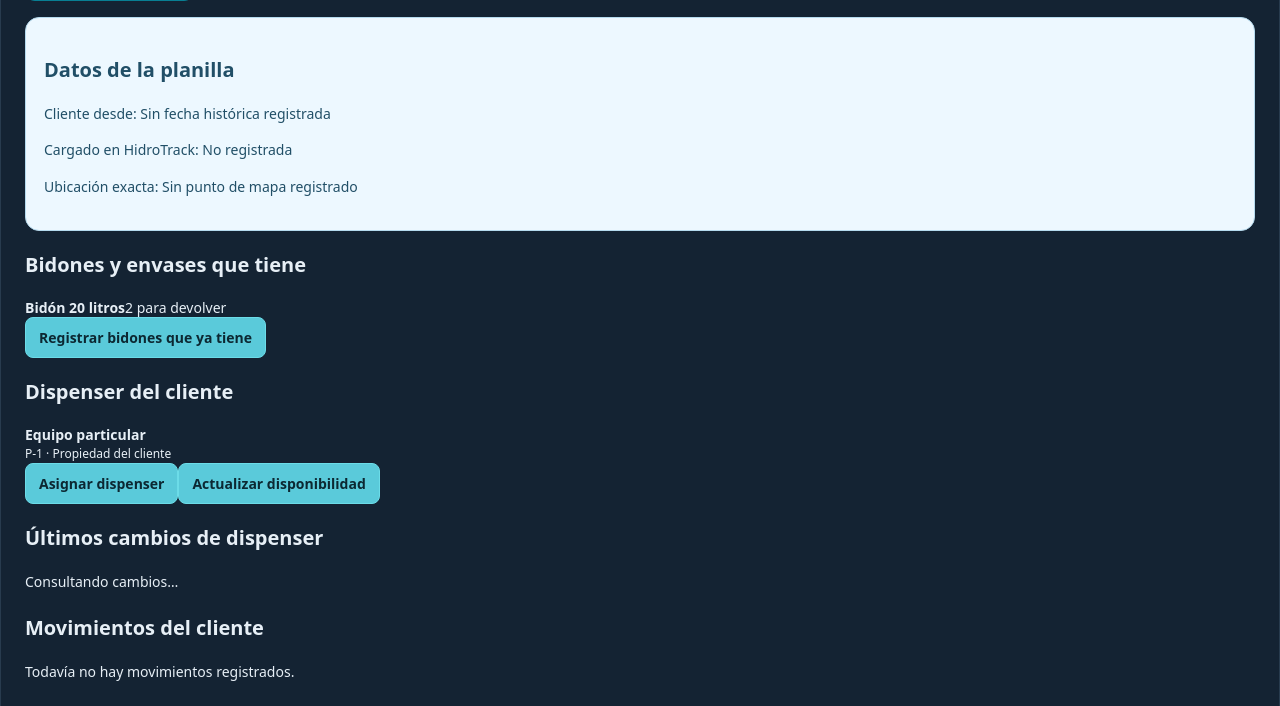
Test: registra envases anteriores del cliente en una sola apertura con varios artículos
(page scrolled)
Expected: the text "2 para devolver" is shown, [125,298,226,317]
Click the button "Registrar bidones que ya tiene": [146, 338] box [25,317,266,358]
(page scrolled)
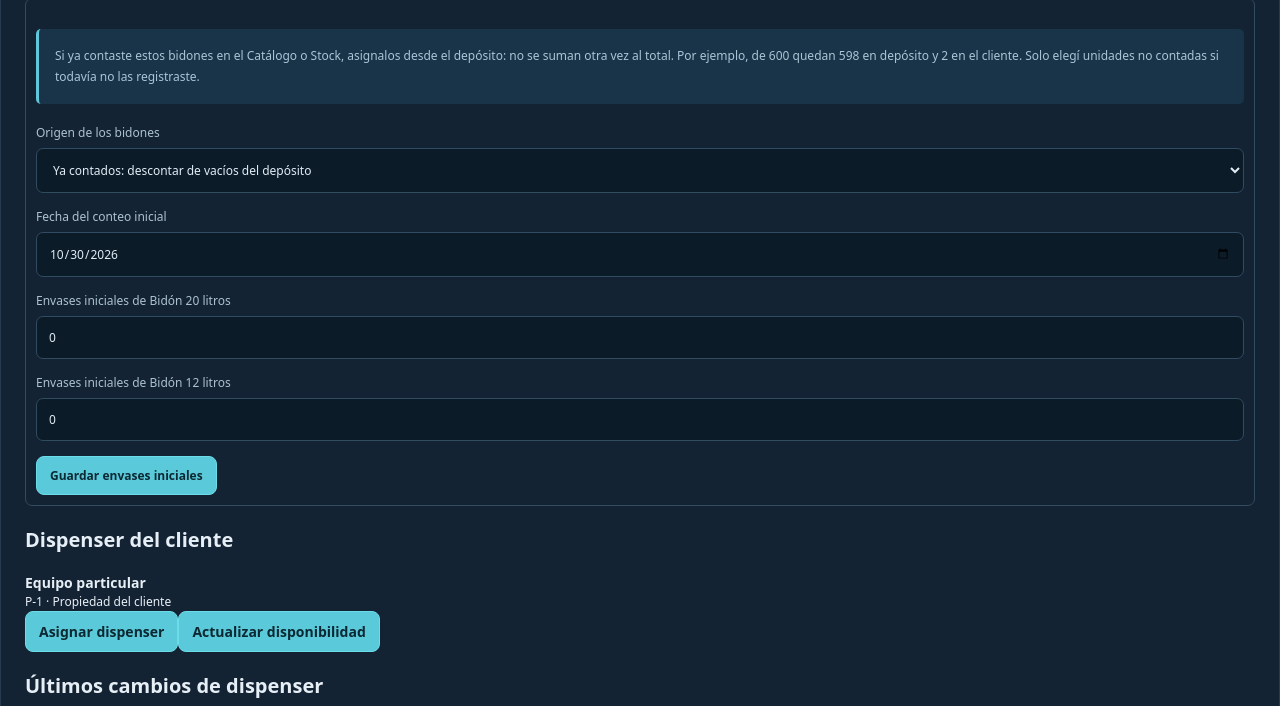
Replace the text in the number field labelled "Envases iniciales de Bidón 20 litros" with "4": [640, 337] box [36,316,1244,359]
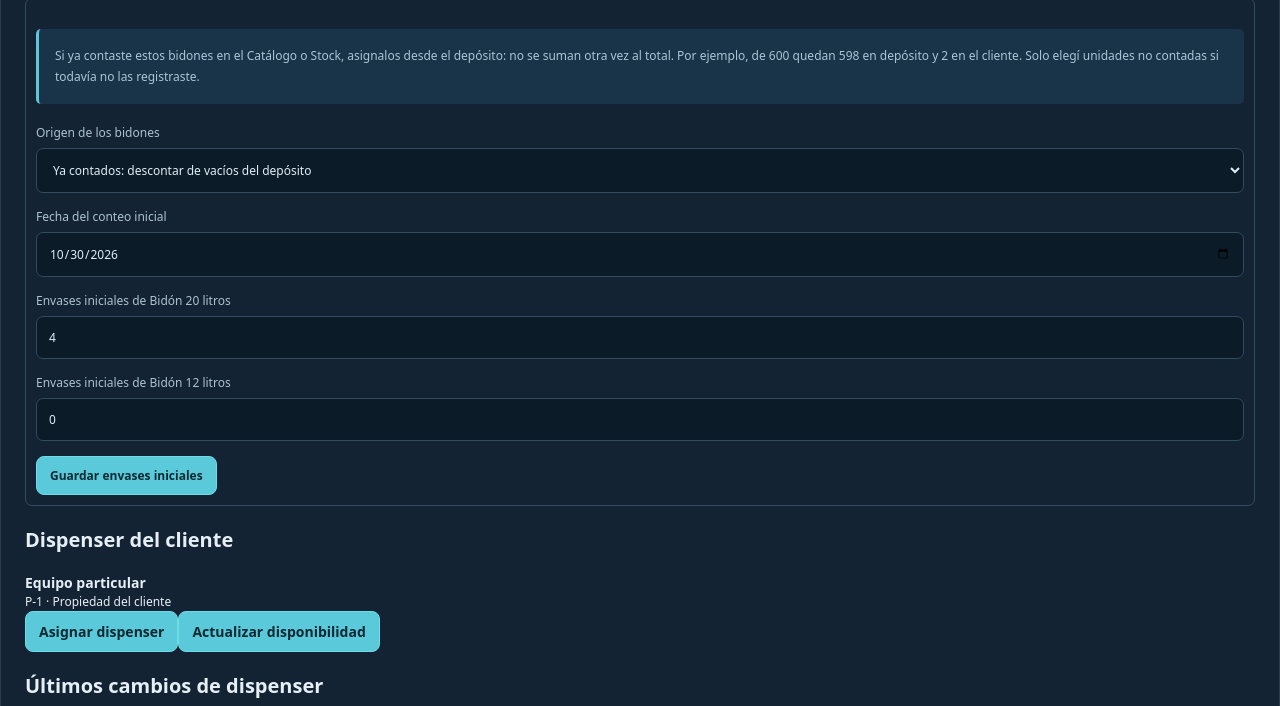
Replace the text in the number field labelled "Envases iniciales de Bidón 12 litros" with "2": [640, 419] box [36,398,1244,441]
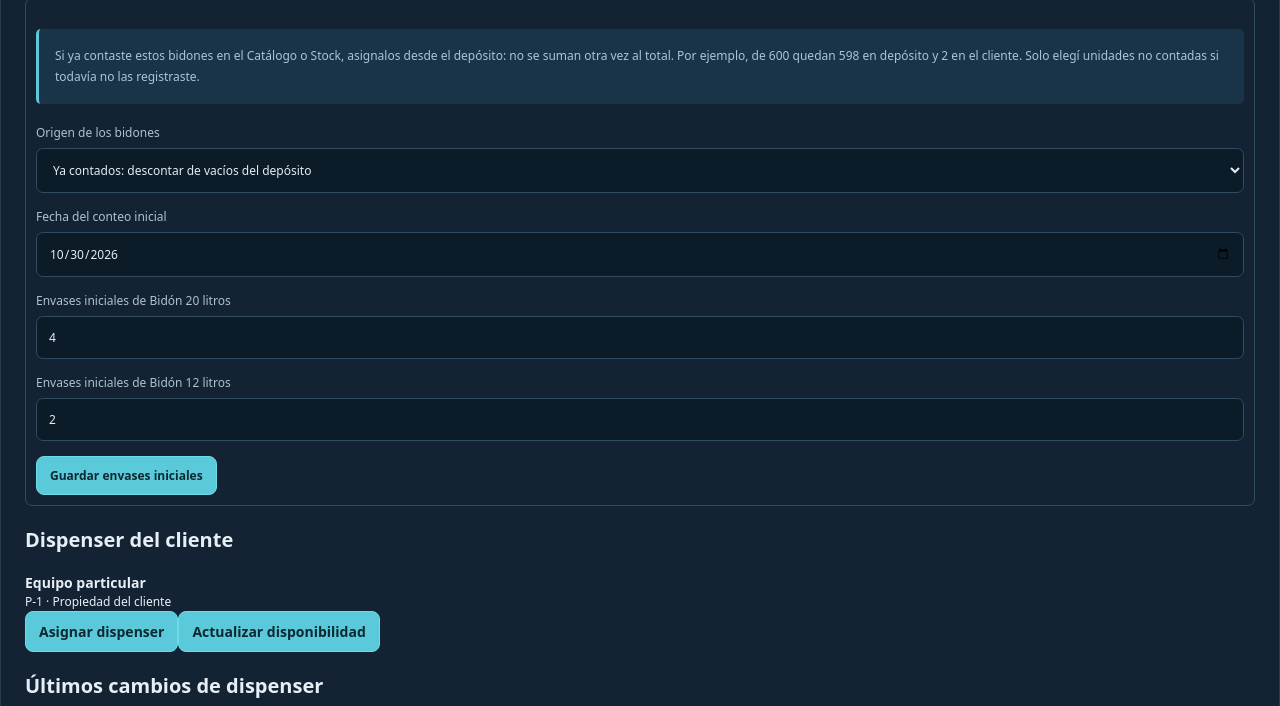
Click the button "Guardar envases iniciales": [126, 475] box [36,456,217,495]
(page scrolled)
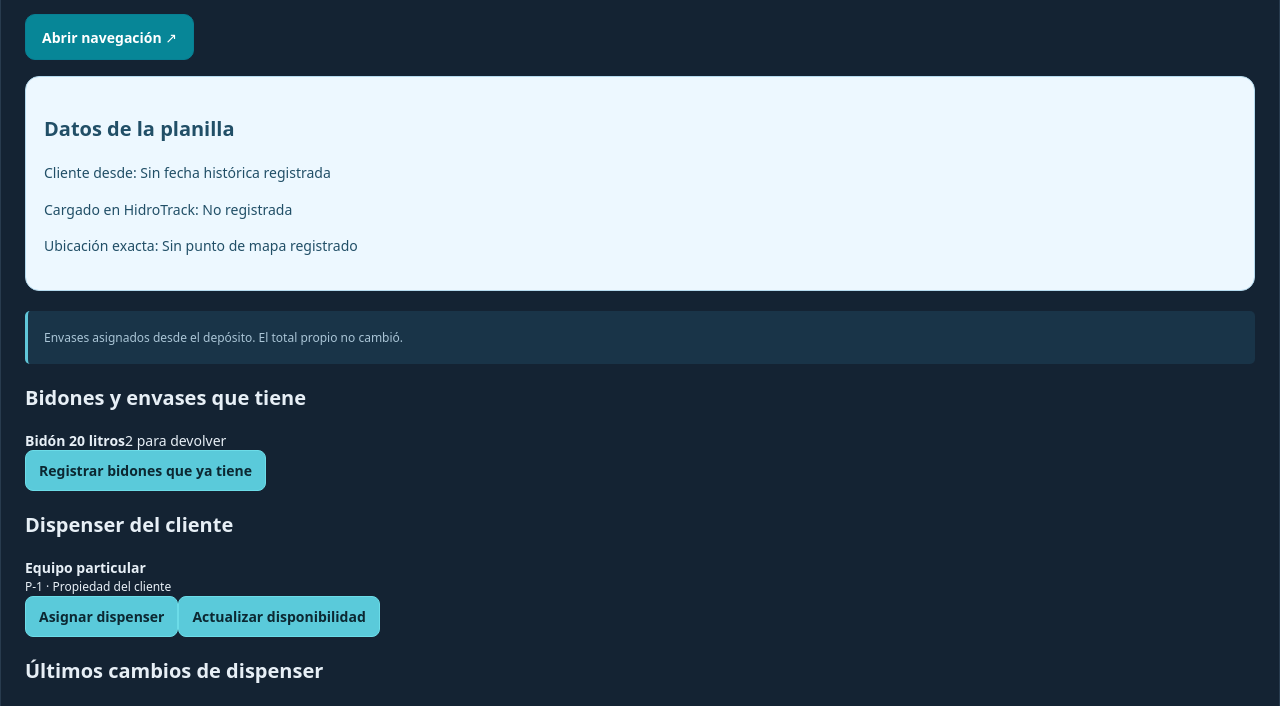
Expected: the text "Envases asignados desde el depósito. El total propio no cambió." is shown, [25,310,1255,364]
